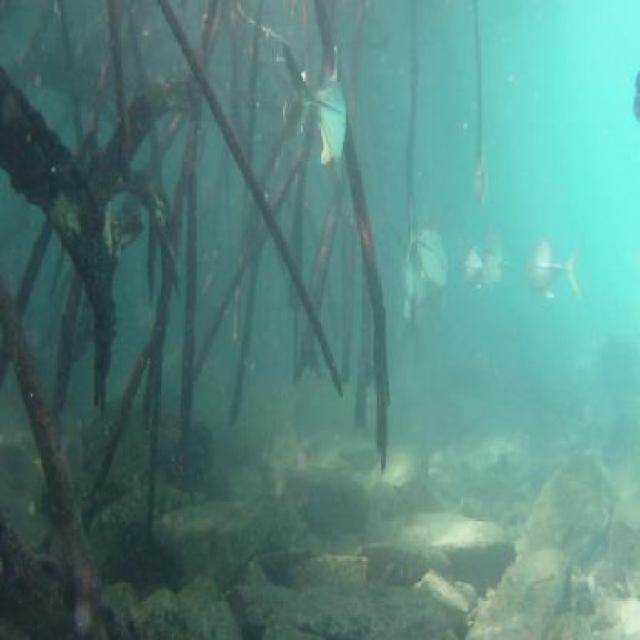Caranx_sexfasciatus_juvenile: (275, 32, 356, 176), (519, 228, 587, 317), (405, 200, 453, 309), (275, 54, 308, 141), (485, 230, 509, 301), (469, 148, 493, 214), (464, 236, 484, 293)
